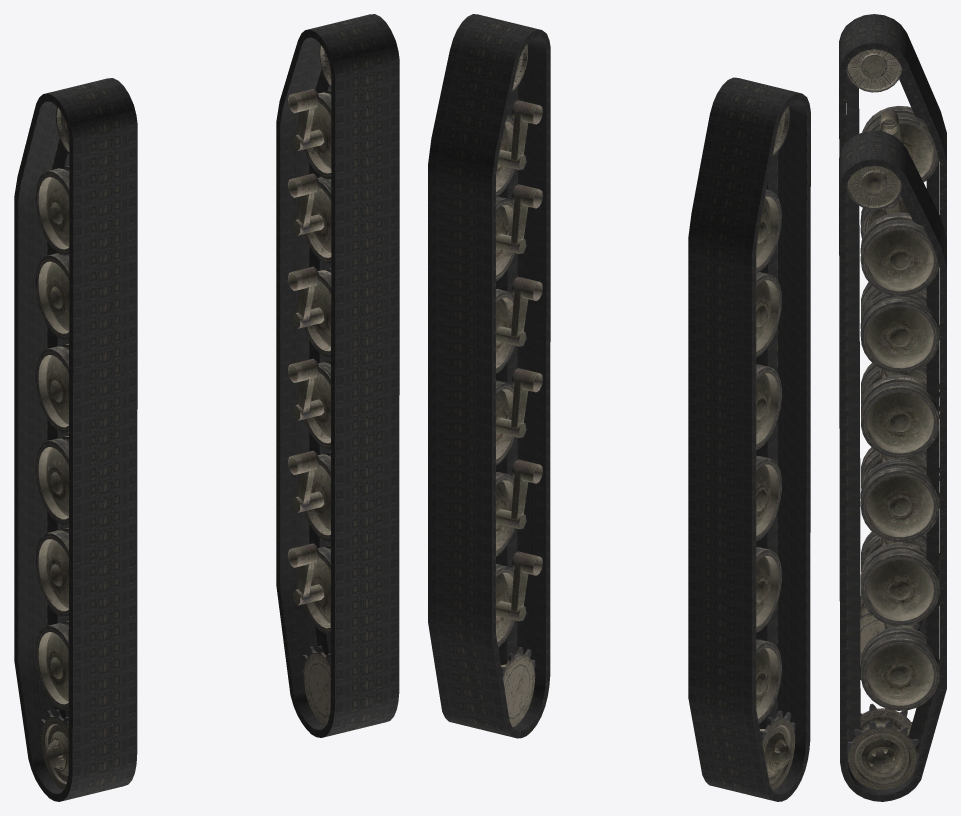
The model's file is Chassis.glb.
3 views of the same model, side by side, from view 1: azimuth 30°, elevation 25°; view 2: azimuth 150°, elevation 25°; view 3: azimuth 270°, elevation 25° (orthographic). The views are drawn at different scales.
Parts seen in each view (by area): view 1: set_0_group_0, set_1_group_0, set_3_group_0, set_2_group_0; view 2: set_0_group_0, set_1_group_0, set_3_group_0, set_2_group_0; view 3: set_3_group_0, set_1_group_0, set_2_group_0, set_0_group_0.
Boxes of the visible parts, x1,y1,x2,y2 form: set_0_group_0: (14,78,137,801); set_1_group_0: (276,14,399,737); set_3_group_0: (288,44,331,725); set_2_group_0: (35,107,69,789); set_0_group_0: (688,77,810,801); set_1_group_0: (428,14,550,738); set_3_group_0: (496,44,542,726); set_2_group_0: (756,106,795,790); set_3_group_0: (846,166,939,790); set_1_group_0: (839,130,946,801); set_2_group_0: (846,49,939,666); set_0_group_0: (839,14,946,679).
Size of the model in its own units: 3.32 by 6.81 by 1.04.
4 materials, 4 textured.
